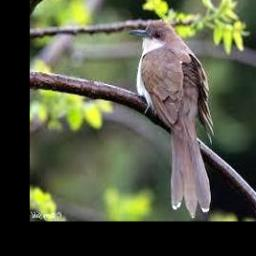Cuckoo: (129, 20, 215, 218)
